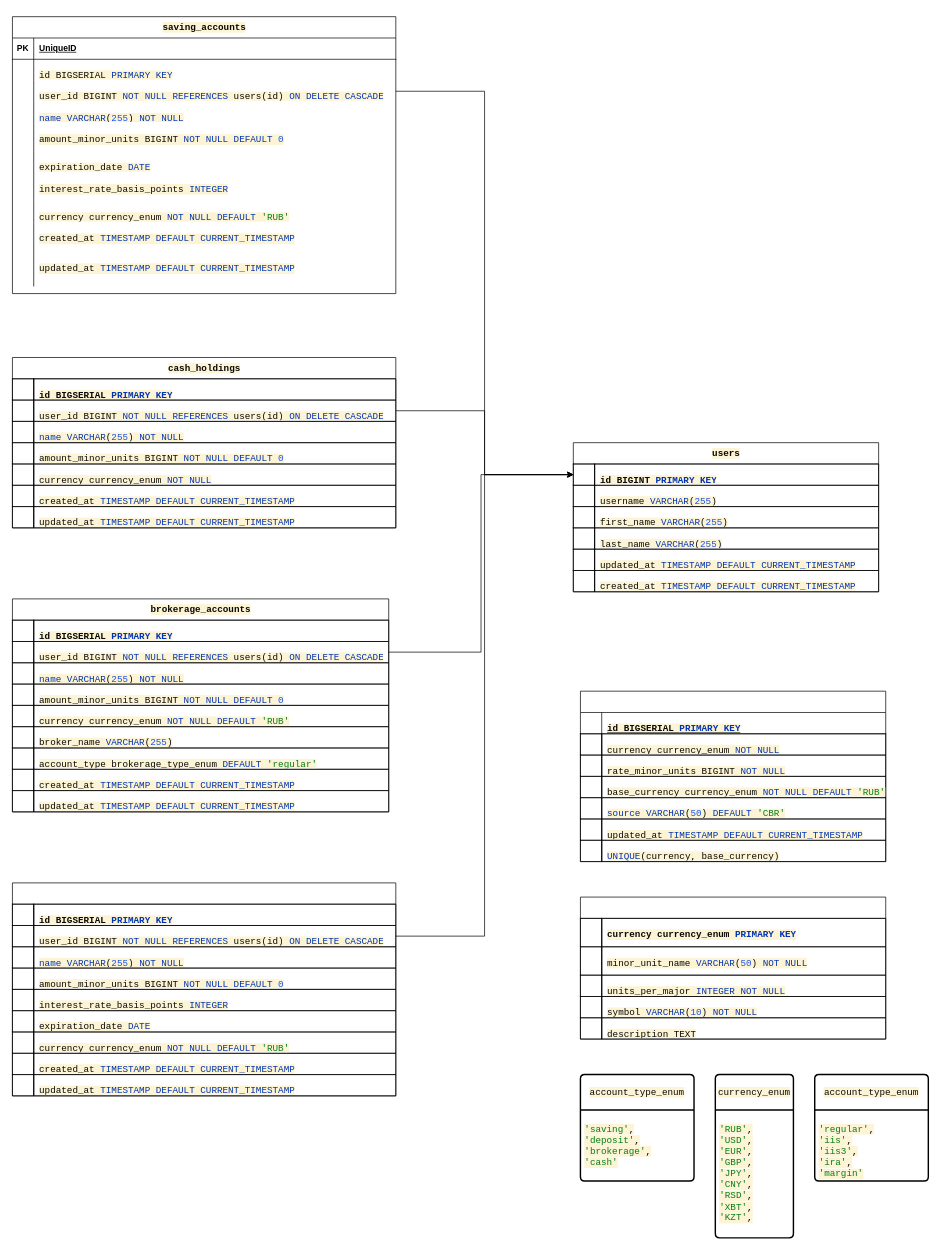
Image size: 941x1250. Some labels were removed from this diagram. The shapes that lost their labels are listed below. From the top down, each one's box as (x1, y1, x2, y2) in pixels, then its label:
(580, 690, 886, 862): currency_rates
(580, 896, 886, 1039): currency_minor_units
(12, 882, 396, 1096): deposits
